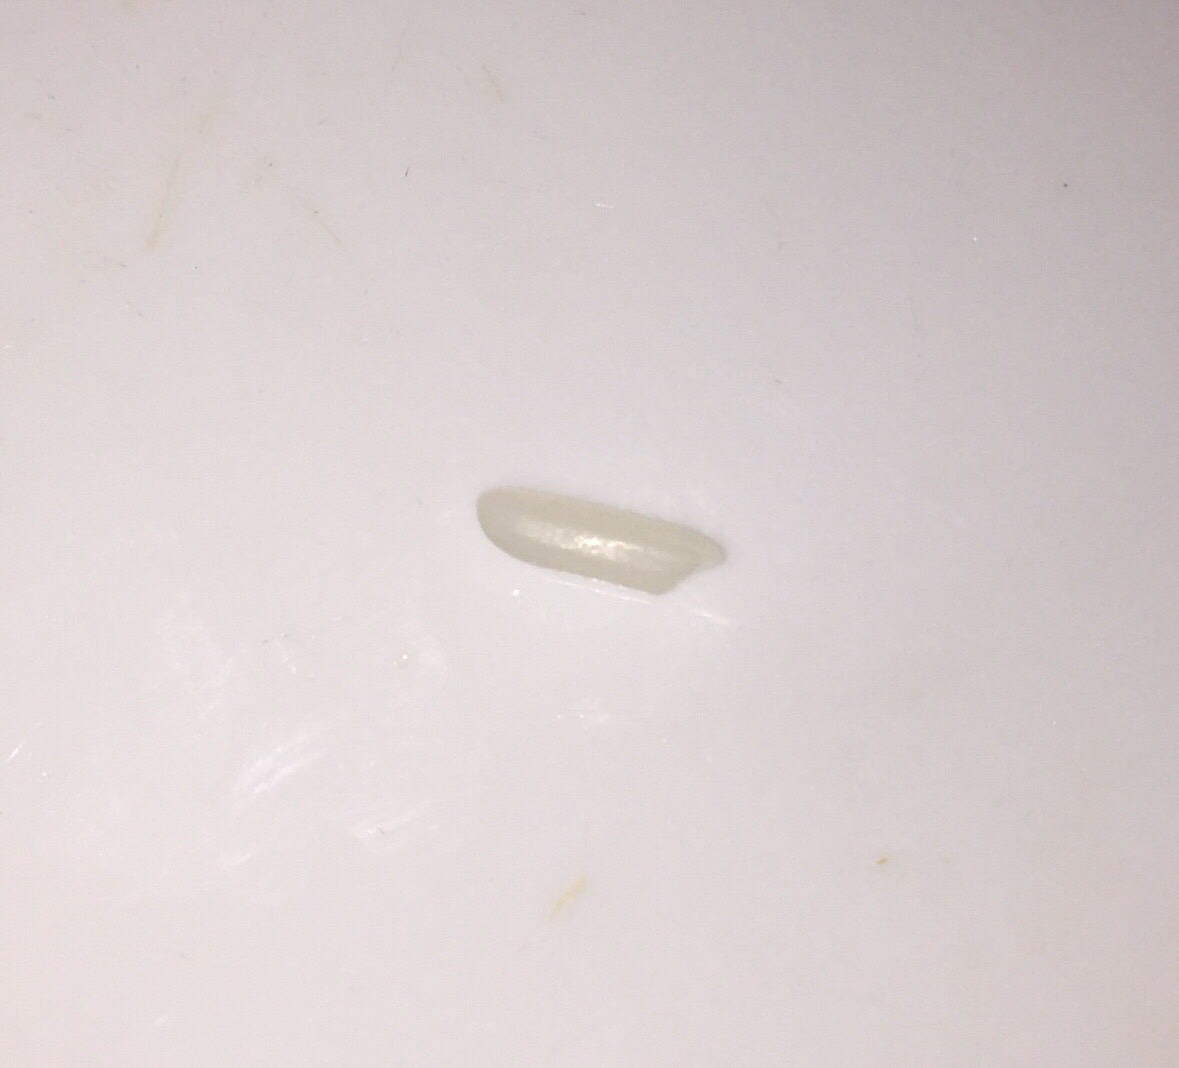Gao Ngoc Troi: (445, 454, 741, 622)
